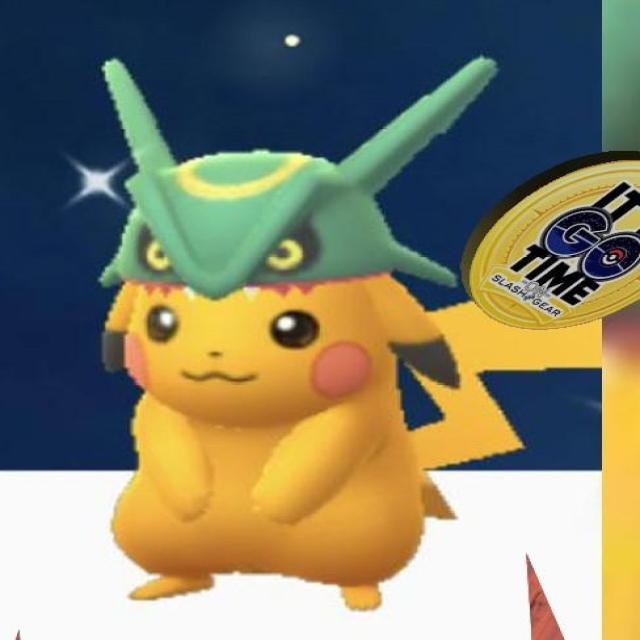pikachu: (97, 277, 614, 612)
